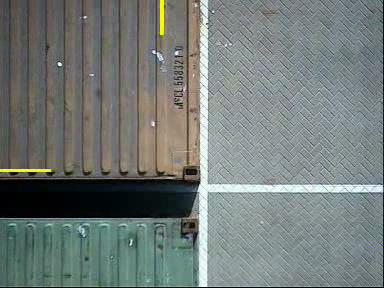groundmarker_2: (201, 144, 239, 217), (203, 1, 234, 32)
